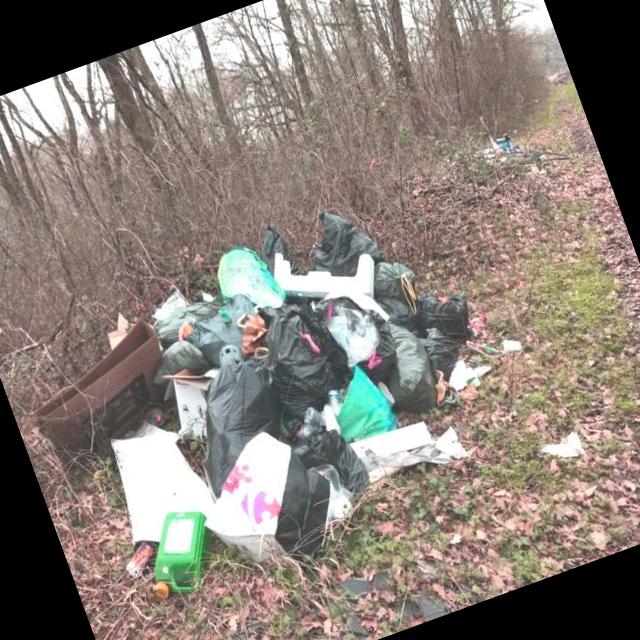high trash: (38, 213, 469, 573)
